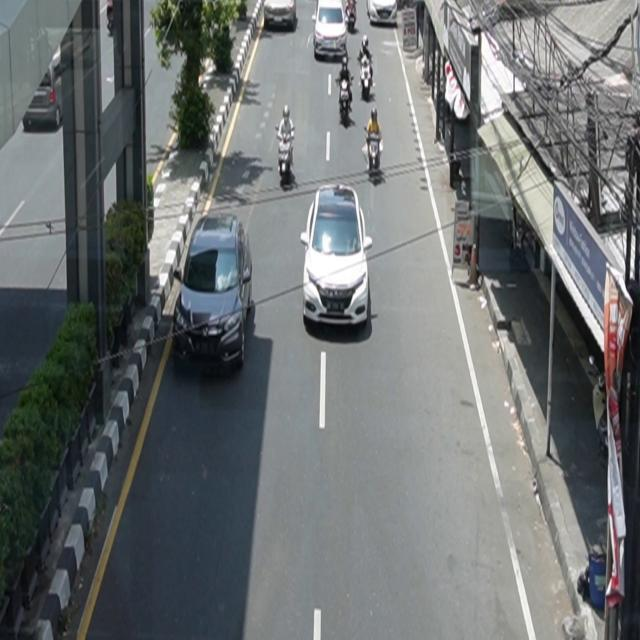car: (173, 213, 254, 376), (301, 184, 374, 330), (311, 1, 348, 60), (264, 1, 298, 31), (367, 1, 399, 26)
